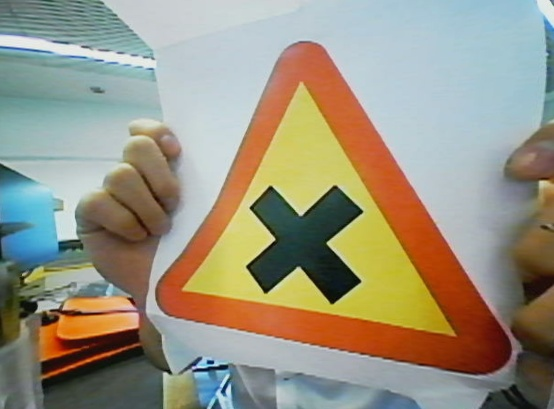junction: (178, 44, 529, 378)
